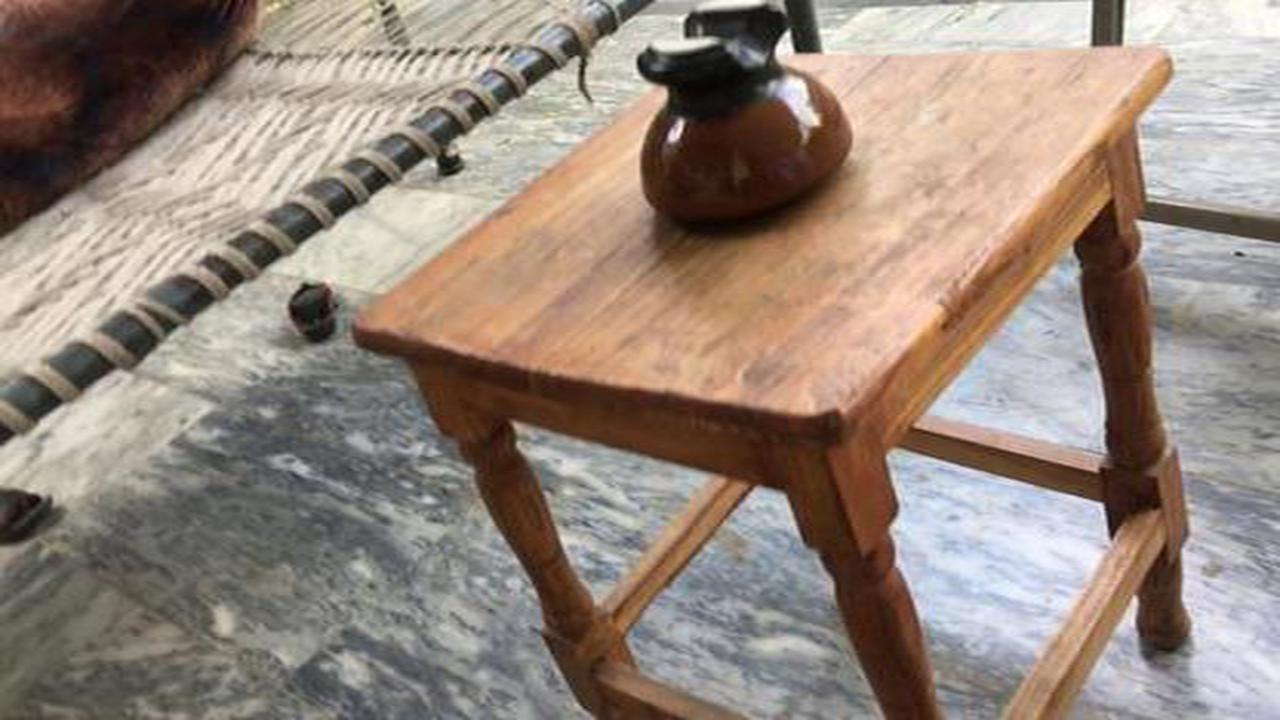insulator_pin: (619, 2, 868, 251)
